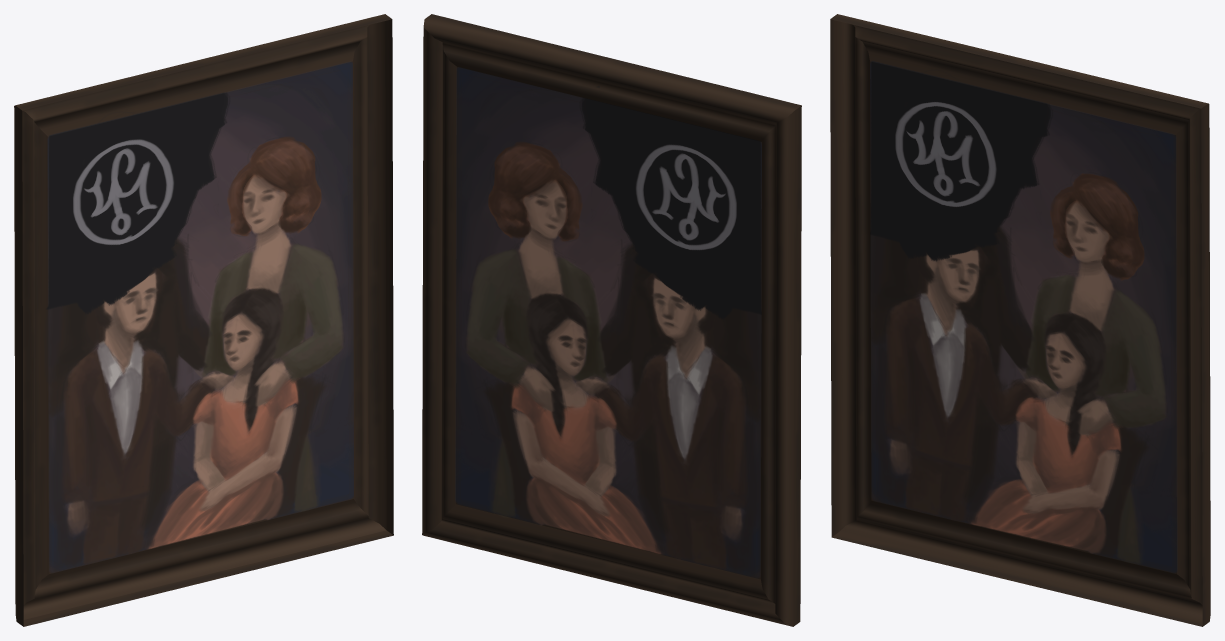
Rendered from portraitT.fbx.
3 views of the same model, side by side, from view 1: azimuth 30°, elevation 25°; view 2: azimuth 150°, elevation 25°; view 3: azimuth 330°, elevation 25° (orthographic).
Parts seen in each view (by area): view 1: portrait_fallen; view 2: portrait_fallen; view 3: portrait_fallen.
Boxes of the visible parts, box(x1,y1,x2,y2) form: portrait_fallen: box(14, 14, 393, 626); portrait_fallen: box(422, 14, 801, 626); portrait_fallen: box(830, 14, 1210, 626).
Size of the model in its own units: 24.12 by 32.13 by 1.27.
